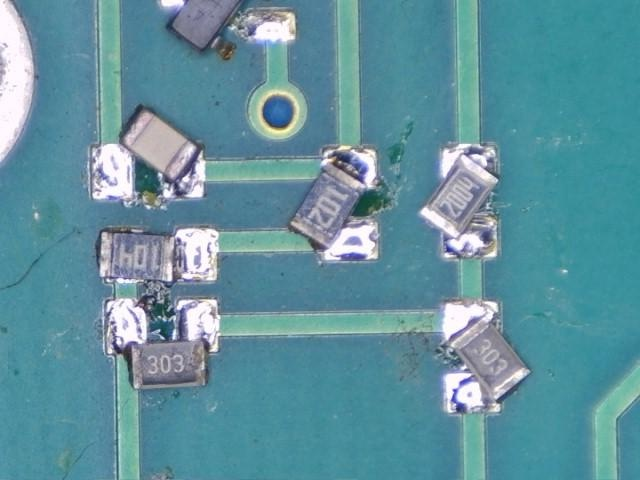pcb_defect: (90, 105, 206, 202), (286, 147, 380, 262), (105, 298, 220, 390), (443, 301, 533, 414), (418, 145, 500, 260), (161, 0, 297, 61), (98, 228, 218, 283)
